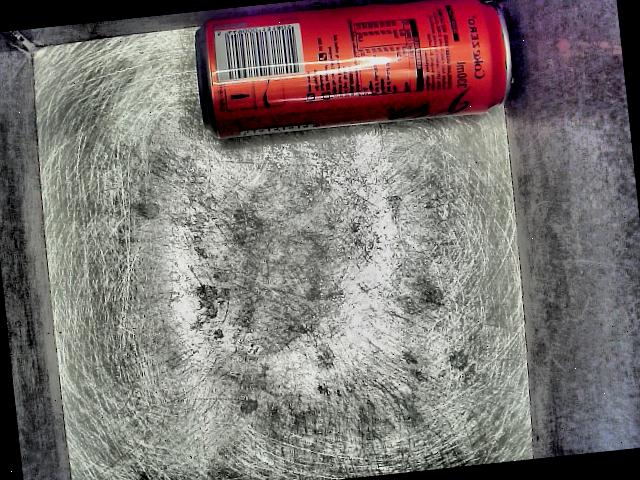Bottles: (142, 0, 526, 178)
